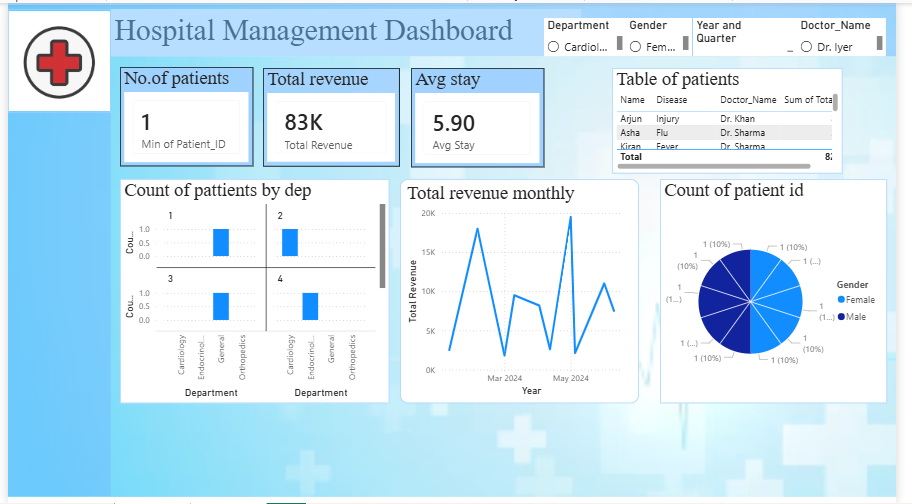

The page's visual inventory and layout, read from the dashboard file:
{"tool":"powerbi","page":{"name":"Page 1","canvas":[1280,720],"ordinal":0},"visuals":[{"type":"cardVisual","title":"No.of patients","fields":{"Data":["Min(Patients.Patient_ID)"]},"box":[161.7,91.7,191.7,143.3],"z":0},{"type":"cardVisual","title":"Total revenue","fields":{"Data":["Billing.Total Revenue"]},"box":[366.7,93.3,196.7,141.7],"z":1000},{"type":"cardVisual","title":"Avg stay","fields":{"Data":["Billing.Avg Stay"]},"box":[580,93.3,191.7,143.3],"z":2000},{"type":"clusteredColumnChart","title":"Count of pattients by dep","fields":{"Rows":["Billing.Patient_ID"],"Y":["CountNonNull(Patients.Patient_ID)"],"Category":["Doctors.Department"]},"box":[161.7,253.3,388.3,323.3],"z":3000},{"type":"lineChart","title":"Total revenue monthly","fields":{"Y":["Billing.Total Revenue"],"Category":["Patients.Admission_Date.Variation.Date Hierarchy.Year","Patients.Admission_Date.Variation.Date Hierarchy.Quarter","Patients.Admission_Date.Variation.Date Hierarchy.Month","Patients.Admission_Date.Variation.Date Hierarchy.Day"]},"box":[564.5,253.4,344.2,322.6],"z":4000},{"type":"pieChart","title":"Count of patient id","fields":{"Category":["Patients.Gender"],"Series":["Patients.Patient_ID"],"Y":["CountNonNull(Patients.Patient_ID)"]},"box":[938.3,253.3,326.7,323.3],"z":5000},{"type":"tableEx","title":"Table of patients","fields":{"Values":["Patients.Name","Patients.Disease","Doctors.Doctor_Name","Sum(Billing.Total_Bill)"]},"box":[870,93.3,331.7,151.7],"z":6000},{"type":"textbox","box":[148.3,8.3,676.7,68.3],"z":7000},{"type":"shape","box":[0,0,148.3,709.9],"z":8000},{"type":"shape","box":[148.3,0,1131.7,76.7],"z":9000},{"type":"listSlicer","fields":{"Values":["Doctors.Department"]},"box":[771.7,21.7,118.3,55],"z":10000},{"type":"listSlicer","fields":{"Values":["Doctors.Doctor_Name"]},"box":[1136.7,21.7,128.3,55],"z":11000},{"type":"listSlicer","fields":{"Values":["Patients.Admission_Date.Variation.Date Hierarchy.Year","Patients.Admission_Date.Variation.Date Hierarchy.Quarter","Patients.Admission_Date.Variation.Date Hierarchy.Month","Patients.Admission_Date.Variation.Date Hierarchy.Day"]},"box":[986.4,21.6,149.8,54.7],"z":12000},{"type":"listSlicer","fields":{"Values":["Patients.Gender"]},"box":[890,21.7,95,55],"z":13000},{"type":"image","box":[0,8.3,148.3,150],"z":14000}]}

Visuals, with their boxes in screenshot pixels (x1, y1, x2, y2), scaled from the page's 1280x720 canvas onto the 912x504 screenshot:
"No.of patients" cardVisual: 115/64/252/164
"Total revenue" cardVisual: 261/65/401/164
"Avg stay" cardVisual: 413/65/550/166
"Count of pattients by dep" clusteredColumnChart: 115/177/392/404
"Total revenue monthly" lineChart: 402/177/647/403
"Count of patient id" pieChart: 669/177/901/404
"Table of patients" tableEx: 620/65/856/172
textbox: 106/6/588/54
shape: 0/0/106/497
shape: 106/0/911/54
listSlicer - Doctors.Department: 550/15/634/54
listSlicer - Doctors.Doctor_Name: 810/15/901/54
listSlicer - Patients.Admission_Date.Variation.Date Hierarchy.Year x Patients.Admission_Date.Variation.Date Hierarchy.Quarter: 703/15/810/53
listSlicer - Patients.Gender: 634/15/702/54
image: 0/6/106/111
